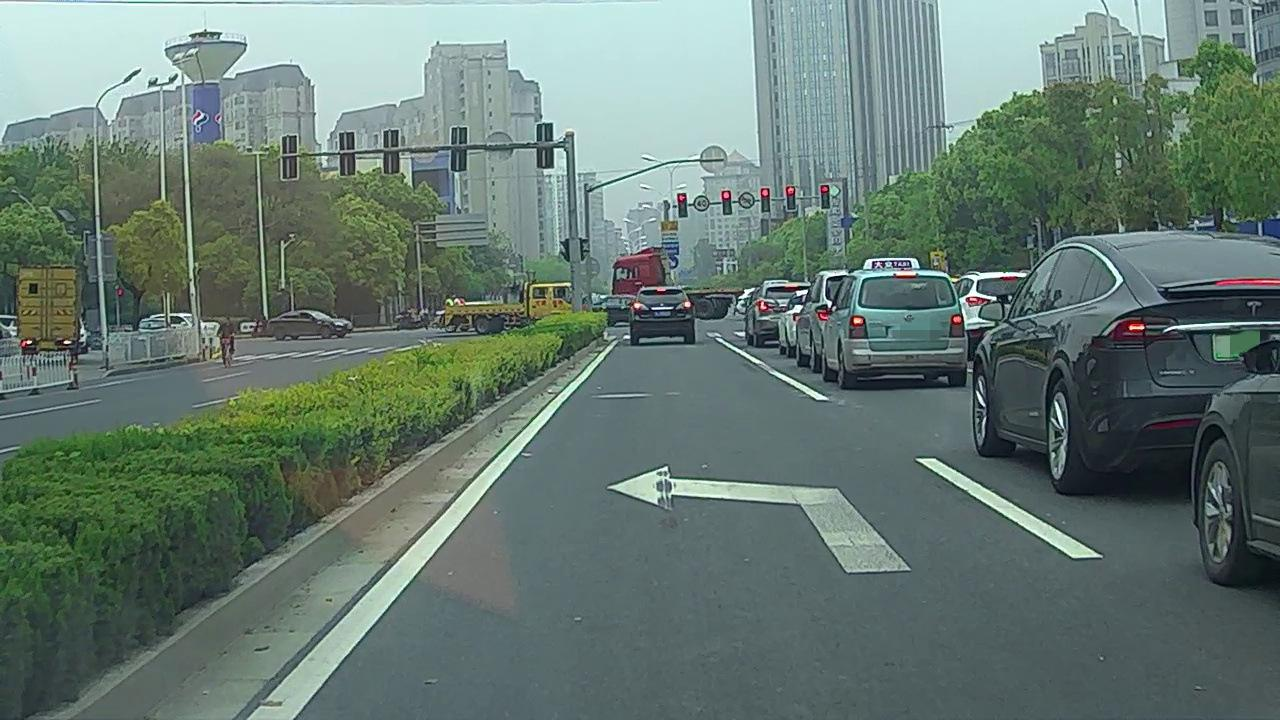traffic_light: (721, 190, 735, 215), (678, 191, 690, 216), (760, 185, 771, 212), (819, 183, 830, 209), (786, 186, 798, 209)
